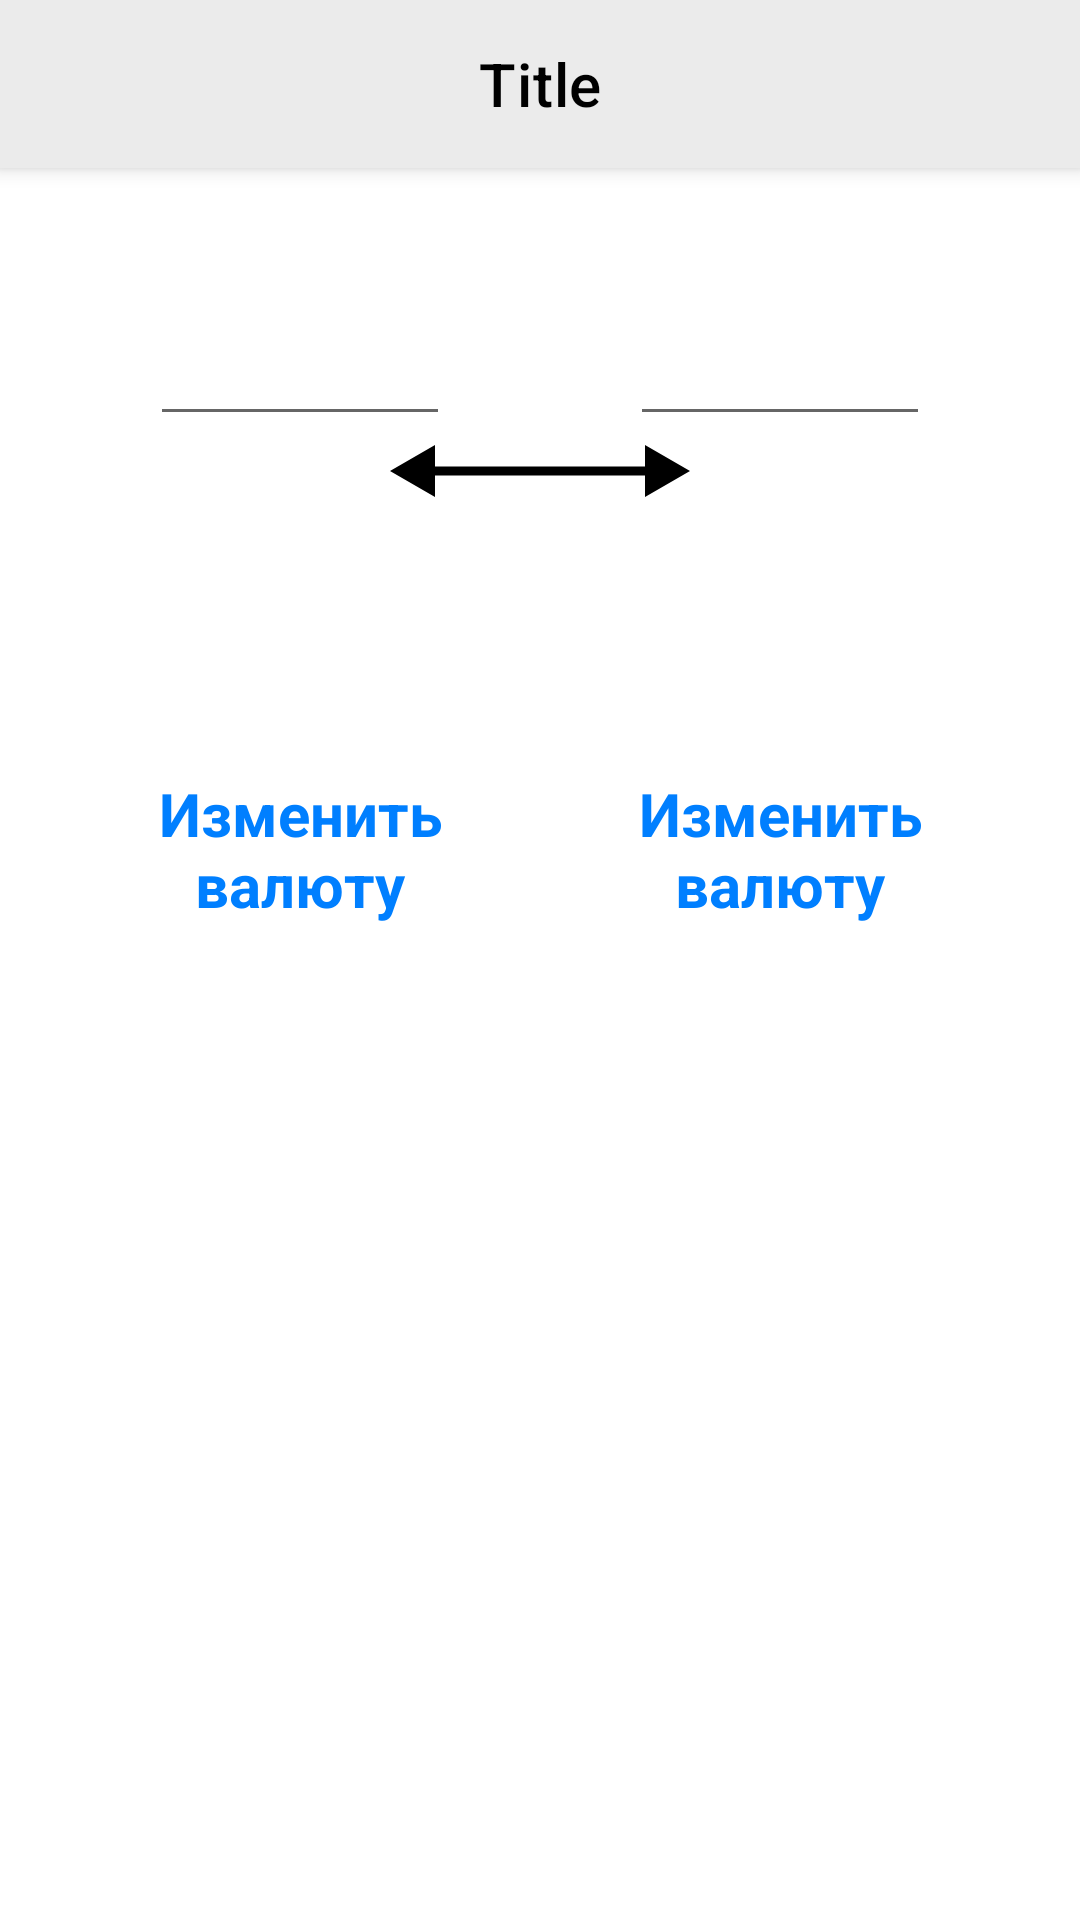

Icons on this 1080 x 1920 Android screen, each with its box as box=[x1, y1, x2, y2]:
arrow: box=[390, 445, 690, 497]
